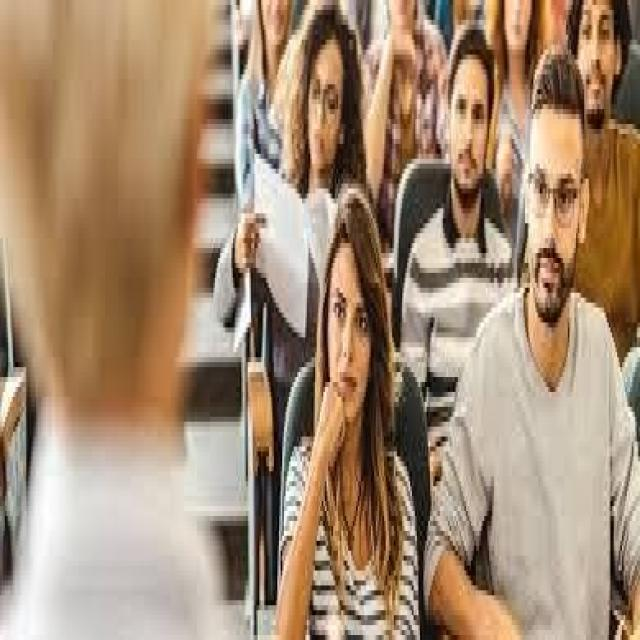person: (0, 10, 248, 630), (435, 45, 637, 620), (274, 164, 440, 625), (235, 0, 378, 313), (405, 25, 514, 372), (540, 0, 637, 327)
